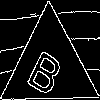B: (24, 41, 70, 98)
